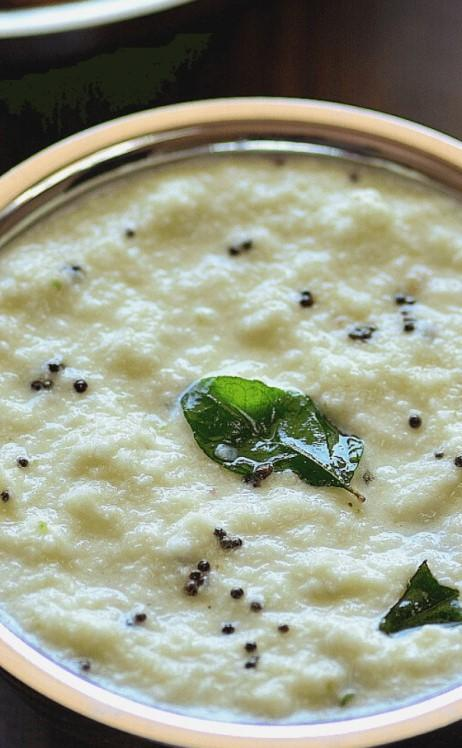CoconutChutney: (0, 150, 462, 718)
